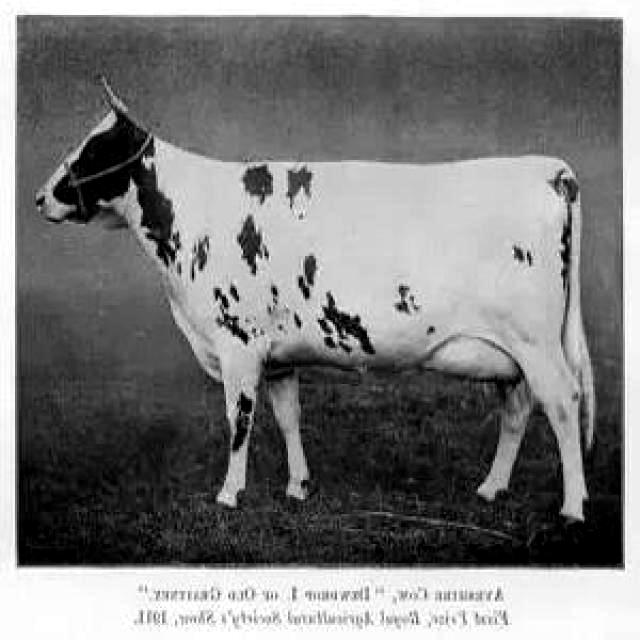COW: (38, 89, 595, 519)
